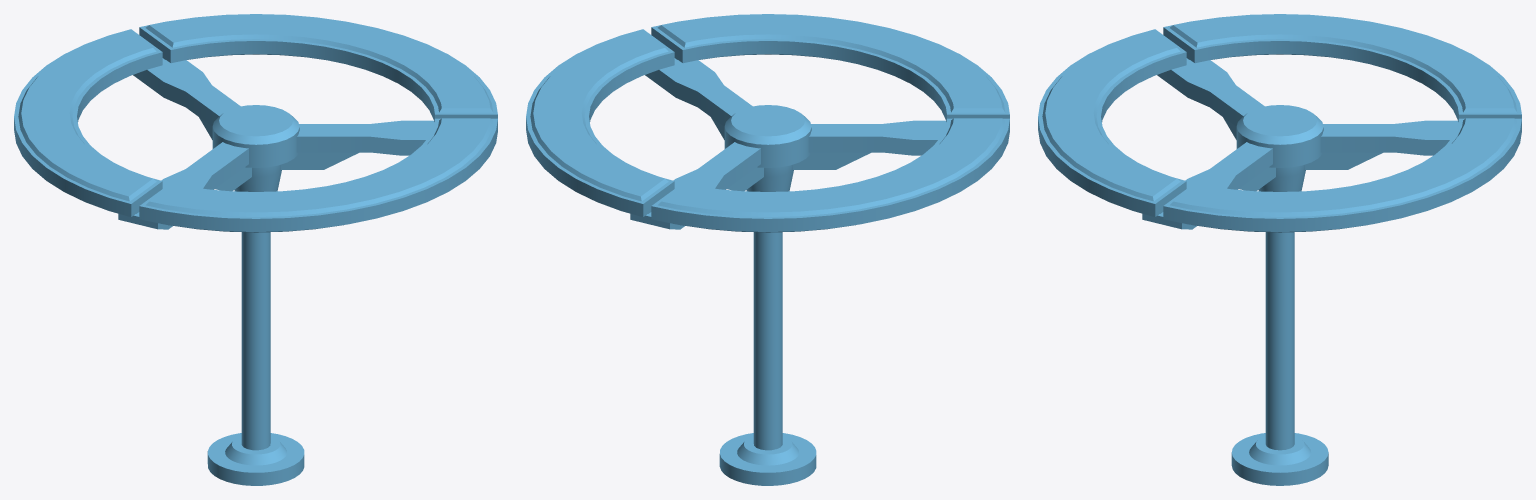
Rendered from Futuristic_ring_roof_lamp.fbx.
The picture shows the model from 3 angles, left to right: view 1: azimuth 30°, elevation 25°; view 2: azimuth 150°, elevation 25°; view 3: azimuth 270°, elevation 25°; orthographic projection.
Visible parts, largest first — view 1: Futuristic_ring_roof_lamp; view 2: Futuristic_ring_roof_lamp; view 3: Futuristic_ring_roof_lamp.
Part boxes in pixels (x1,y1,x2,y2): Futuristic_ring_roof_lamp: (14,14,497,485); Futuristic_ring_roof_lamp: (526,14,1009,485); Futuristic_ring_roof_lamp: (1038,14,1521,485).
Size of the model in its own units: 50 by 40.14 by 49.97.
